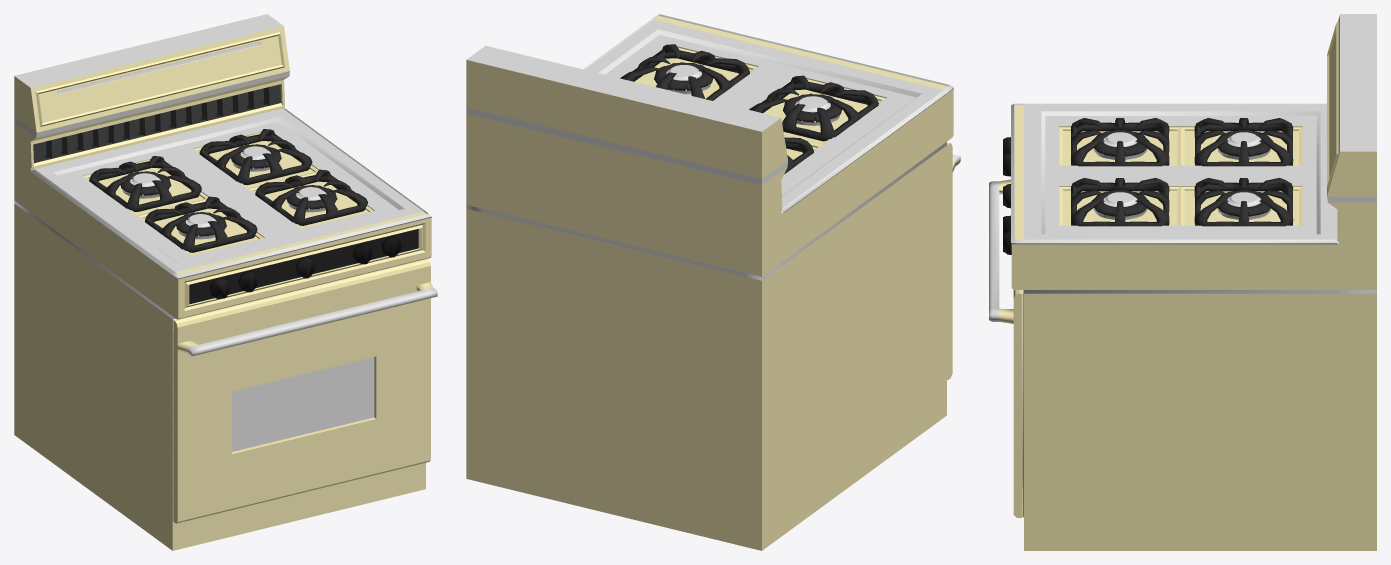
Rendered from gas_stove.glb.
3 views of the same model, side by side, from view 1: azimuth 30°, elevation 25°; view 2: azimuth 150°, elevation 25°; view 3: azimuth 270°, elevation 25° (orthographic). The views are drawn at different scales.
Visible parts, largest first — view 1: GasStove; view 2: GasStove; view 3: GasStove.
Part boxes in pixels (x1,y1,x2,y2): GasStove: (14,14,437,550); GasStove: (466,14,960,550); GasStove: (989,14,1376,550).
Size of the model in its own units: 0.8602 by 1.16 by 1.02.
Materials: 8 (1 with a texture image).
